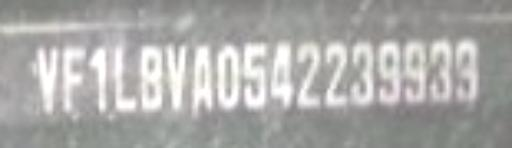letter: (58, 42, 92, 116), (396, 38, 428, 110), (214, 39, 244, 113), (32, 42, 62, 116), (346, 38, 376, 110), (452, 36, 482, 107), (108, 42, 138, 113), (374, 36, 402, 110), (426, 36, 454, 110), (242, 39, 270, 113), (294, 39, 322, 113), (162, 35, 188, 113), (268, 38, 296, 110), (136, 42, 164, 113), (323, 38, 349, 110), (86, 42, 112, 113), (188, 42, 214, 113)
